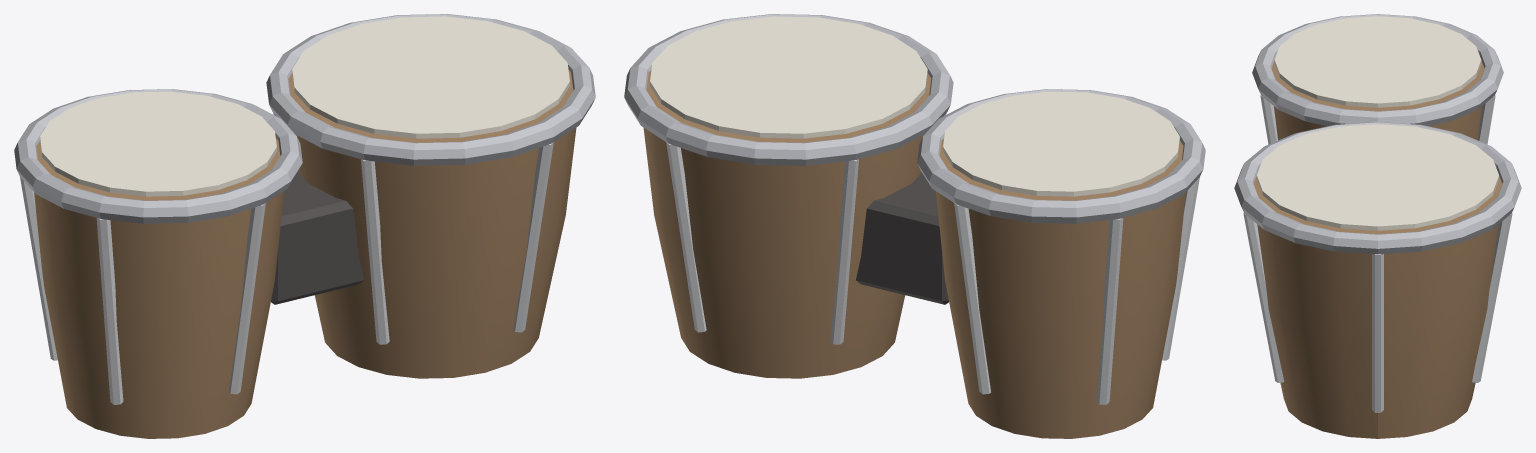
Rendered from orchestra-and-band-instruments-bongo-pair-f72be4bd__39302.glb.
The picture shows the model from 3 angles, left to right: view 1: azimuth 30°, elevation 25°; view 2: azimuth 150°, elevation 25°; view 3: azimuth 270°, elevation 25°; orthographic projection. The views are drawn at different scales.
Visible parts, largest first — view 1: bongo-pair; view 2: bongo-pair; view 3: bongo-pair.
Boxes of the visible parts, x1,y1,x2,y2 form: bongo-pair: (14,14,595,438); bongo-pair: (624,14,1205,438); bongo-pair: (1234,14,1521,438).
Bounding box in the file's own units: 0.457 × 0.208 × 0.242.
